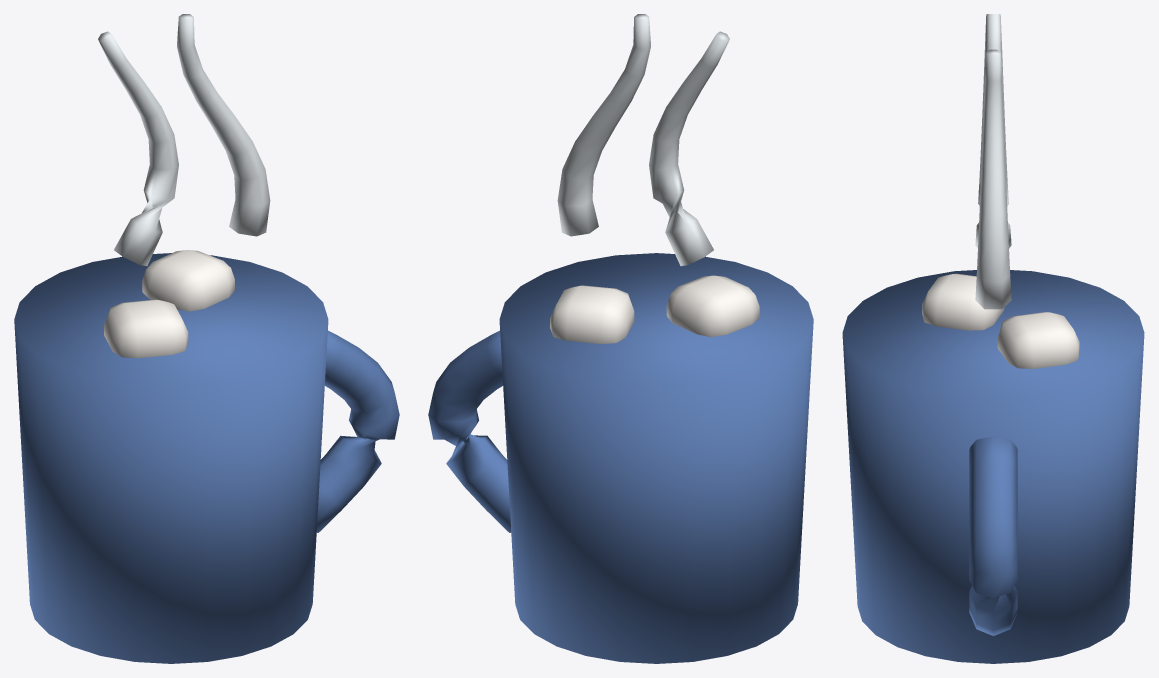
The model's file is night-cocoa.glb.
3 renders of one model, left to right at view 1: azimuth 30°, elevation 25°; view 2: azimuth 150°, elevation 25°; view 3: azimuth 270°, elevation 25°, orthographic. The views are drawn at different scales.
Parts seen in each view (by area): view 1: mug; view 2: mug; view 3: mug.
Boxes of the visible parts, box(x1,y1,x2,y2) form: mug: box(14, 14, 399, 663); mug: box(428, 14, 813, 663); mug: box(842, 14, 1144, 663).
Size of the model in its own units: 0.266 by 0.4119 by 0.2.
